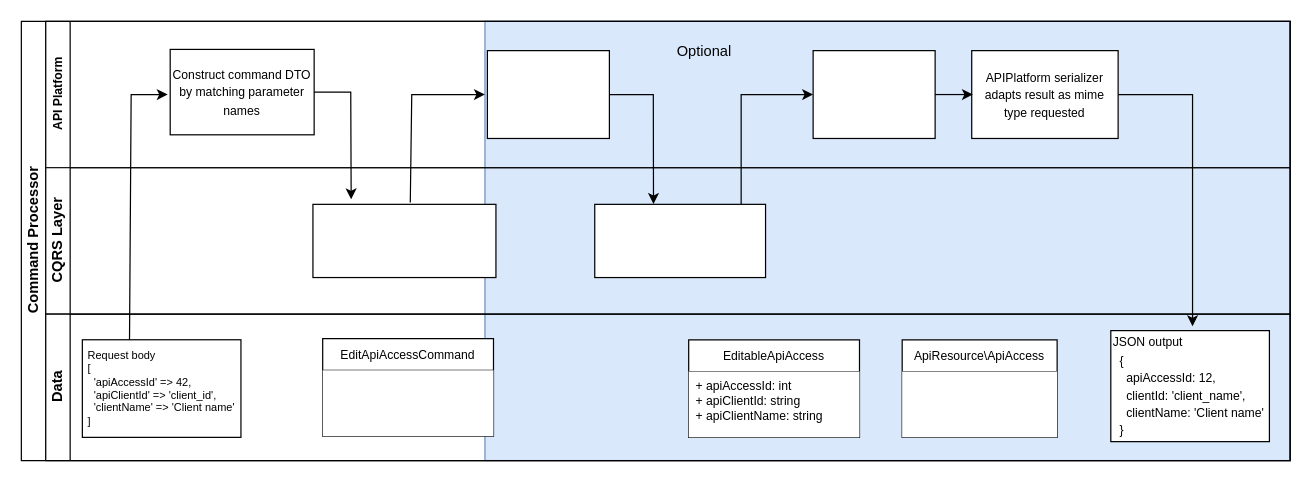
The diagram is 1312 pixels wide and 482 high, and some of its shapes have lost their labels. The shapes that lost their labels are listed below. From the top down, each one's centre as x and y in pixels, then its label:
point (547, 93): Construct query DTO
point (873, 93): Serializes query result object into ApiResource DTO
point (404, 240): EditApiAccessHandler Handle command and returns void
point (680, 240): GetApiAccessForEditingHandler Handle query and returns QueryResult DTO
point (407, 403): + apiAccessId: ApiAccessId + apiClientId: string + clientName: string
point (979, 404): + apiAccessId: int + clientId: string + clientName: string
